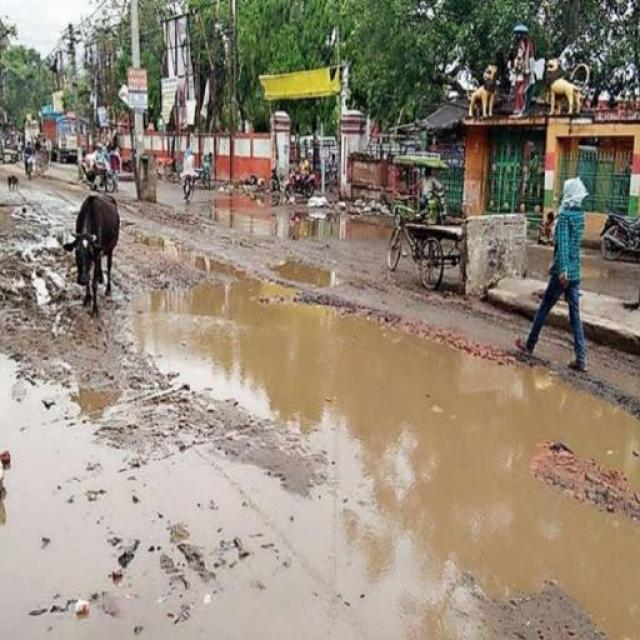puddle: (161, 259, 317, 640), (399, 388, 640, 600), (314, 314, 442, 640), (3, 368, 150, 640)
